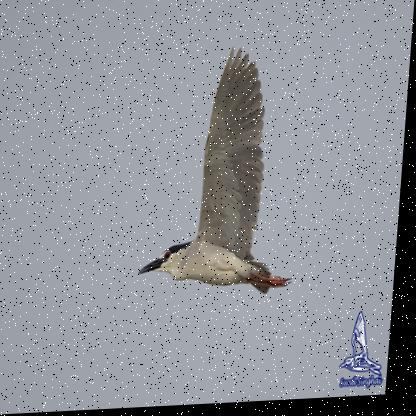Burung: (140, 39, 312, 301)
